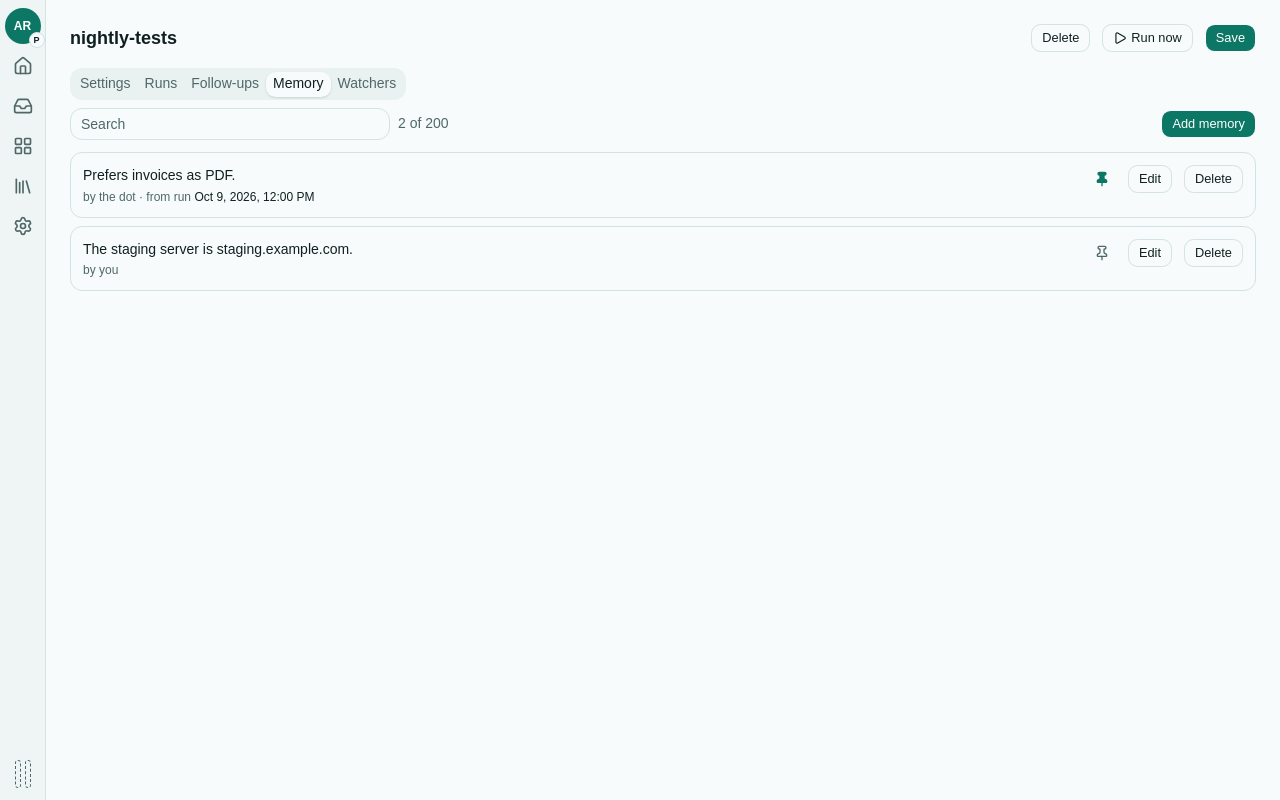
a dot's Memory tab › edits, pins and deletes a memory, and asks before it deletes
Expected: the tab "Memory" is shown, x1=266 y1=72 x2=331 y2=96
Click the button "Edit" in the row of "by you": (1150, 253) x1=1128 y1=239 x2=1172 y2=267
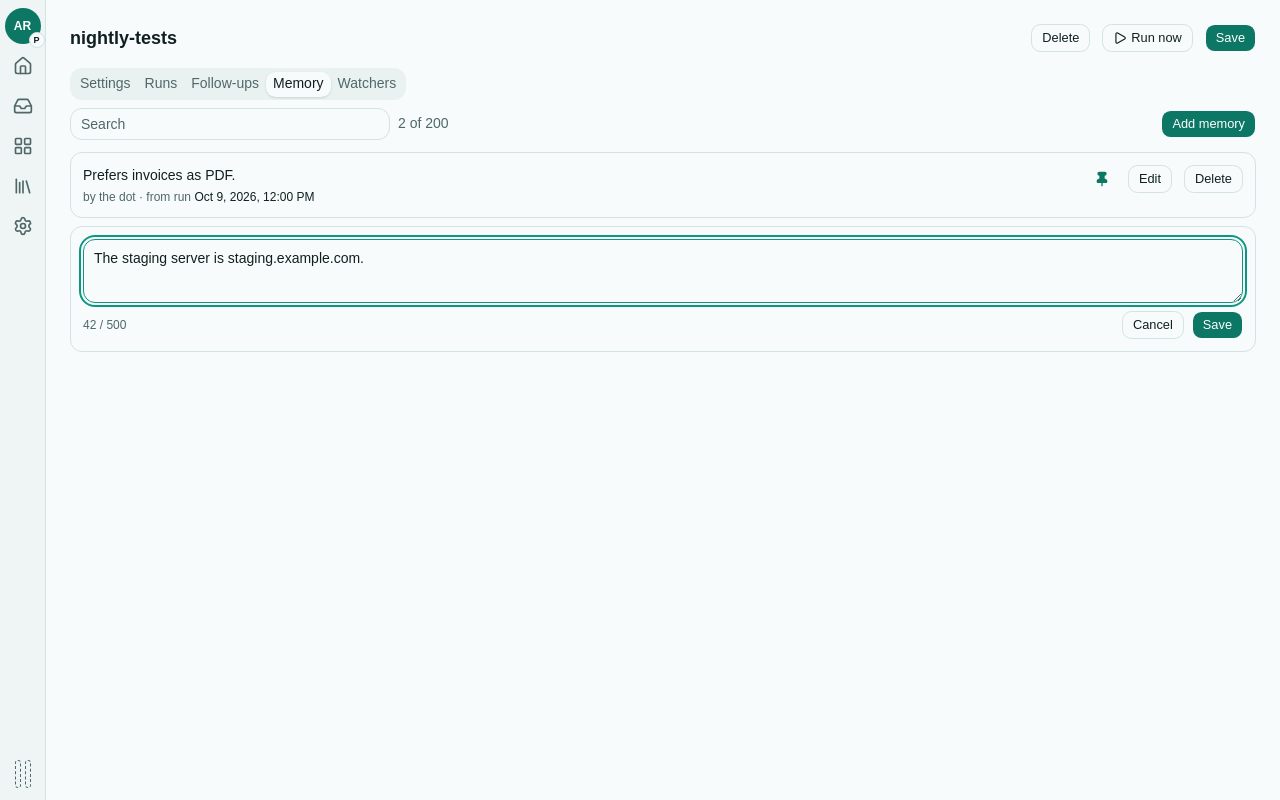
Expected: the text box named "Edit memory" holds "The staging server is staging.example.com."
Replace the text in the text box named "Edit memory" with "Staging moved to staging2.example.com.": (663, 271) x1=83 y1=239 x2=1243 y2=303
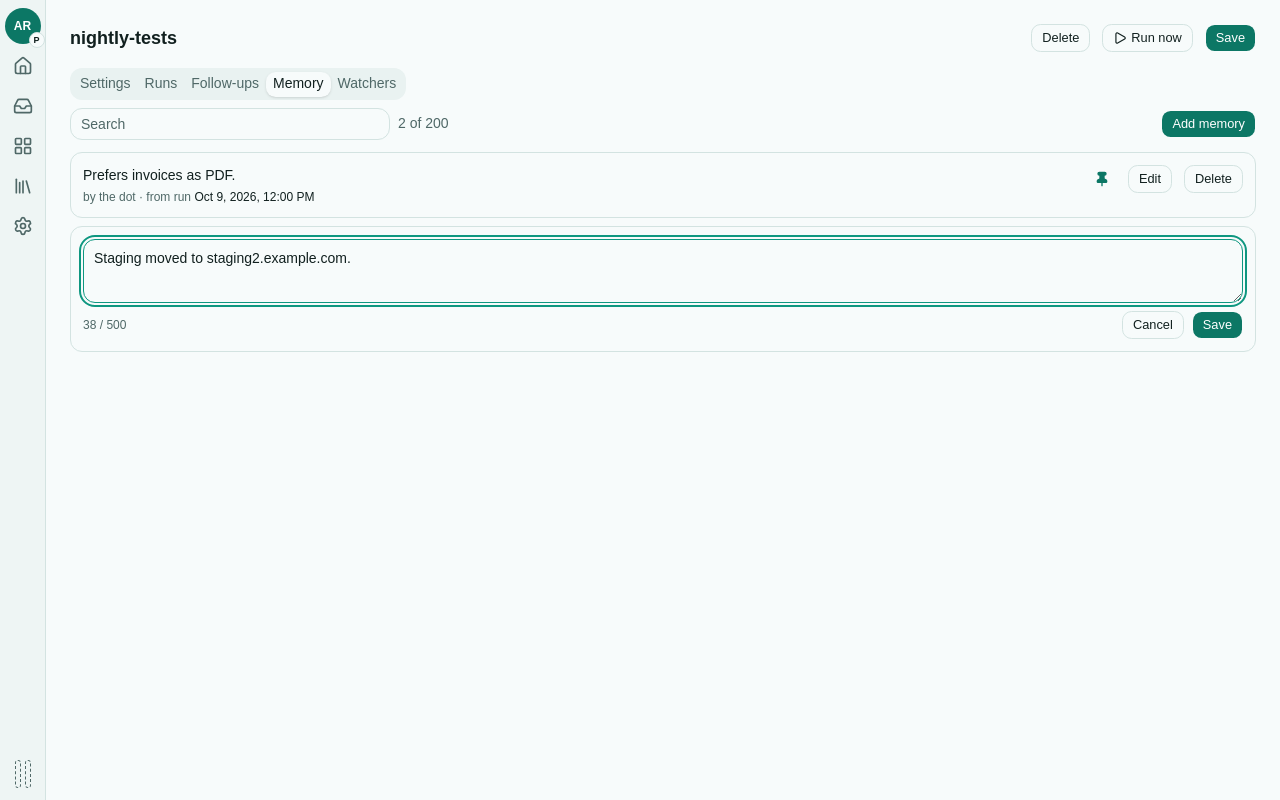
Click the button "Save" in the row of "500": (1217, 325) x1=1192 y1=311 x2=1243 y2=339
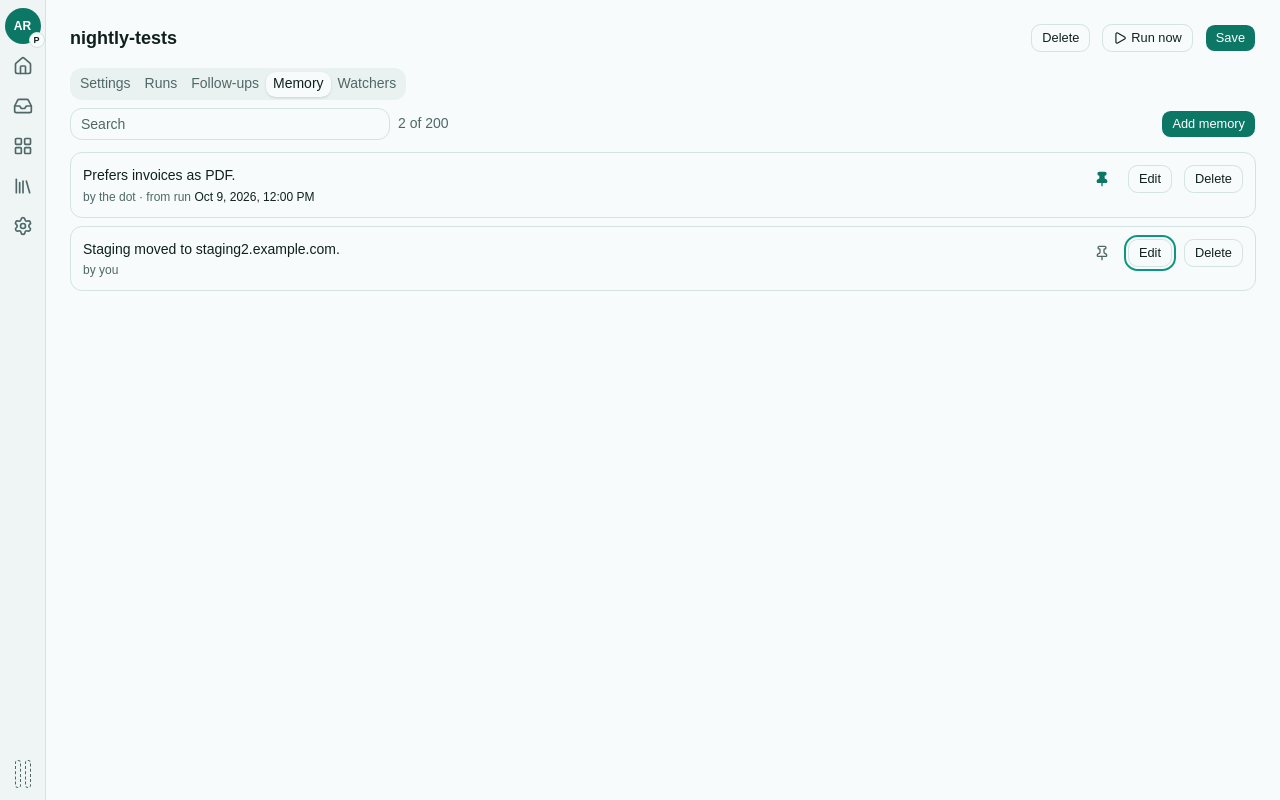
Click the button named "Pinned" in the row of "Staging moved to staging2.example.com.": (1102, 253) x1=1088 y1=239 x2=1116 y2=267
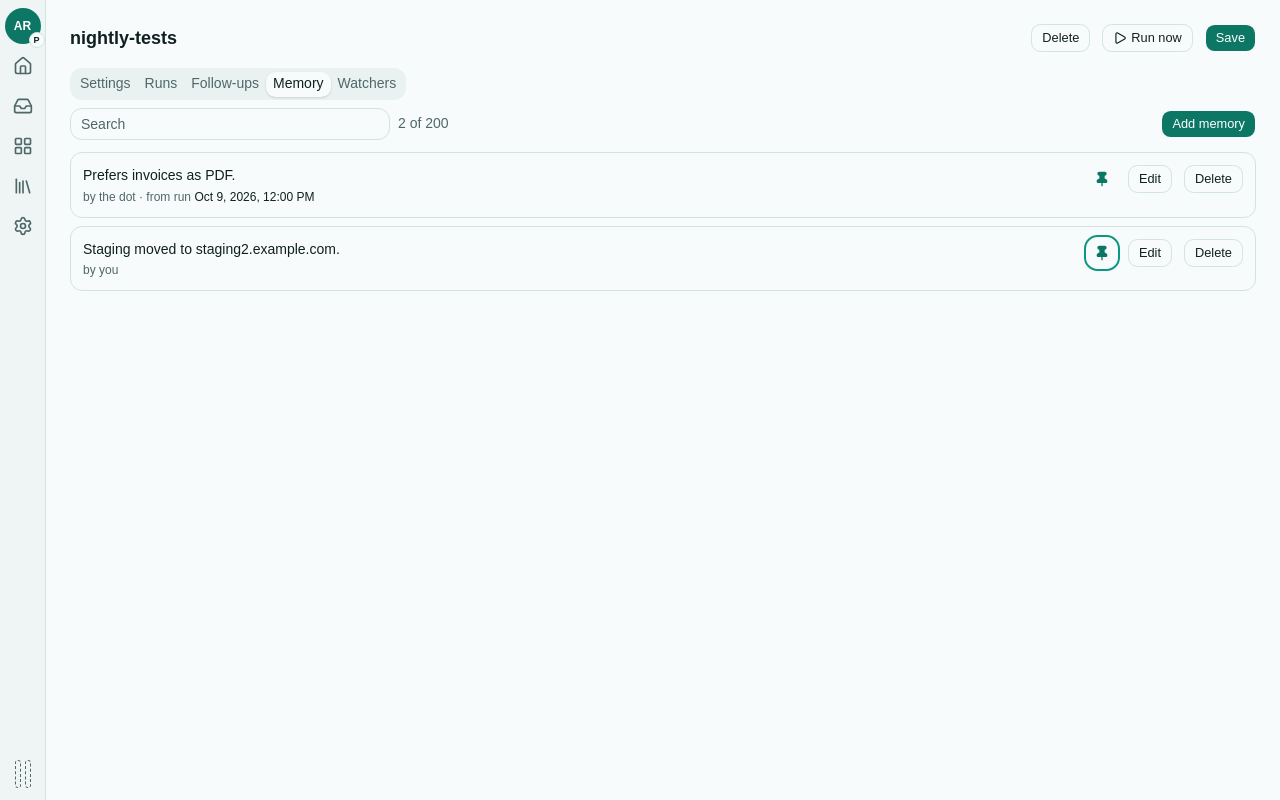
Expected: the button named "Pinned" in the row of "Staging moved to staging2.example.com." is pressed, x1=1088 y1=239 x2=1116 y2=267
Click the button "Delete" in the row of "Prefers invoices as PDF.": (1214, 179) x1=1184 y1=165 x2=1243 y2=193
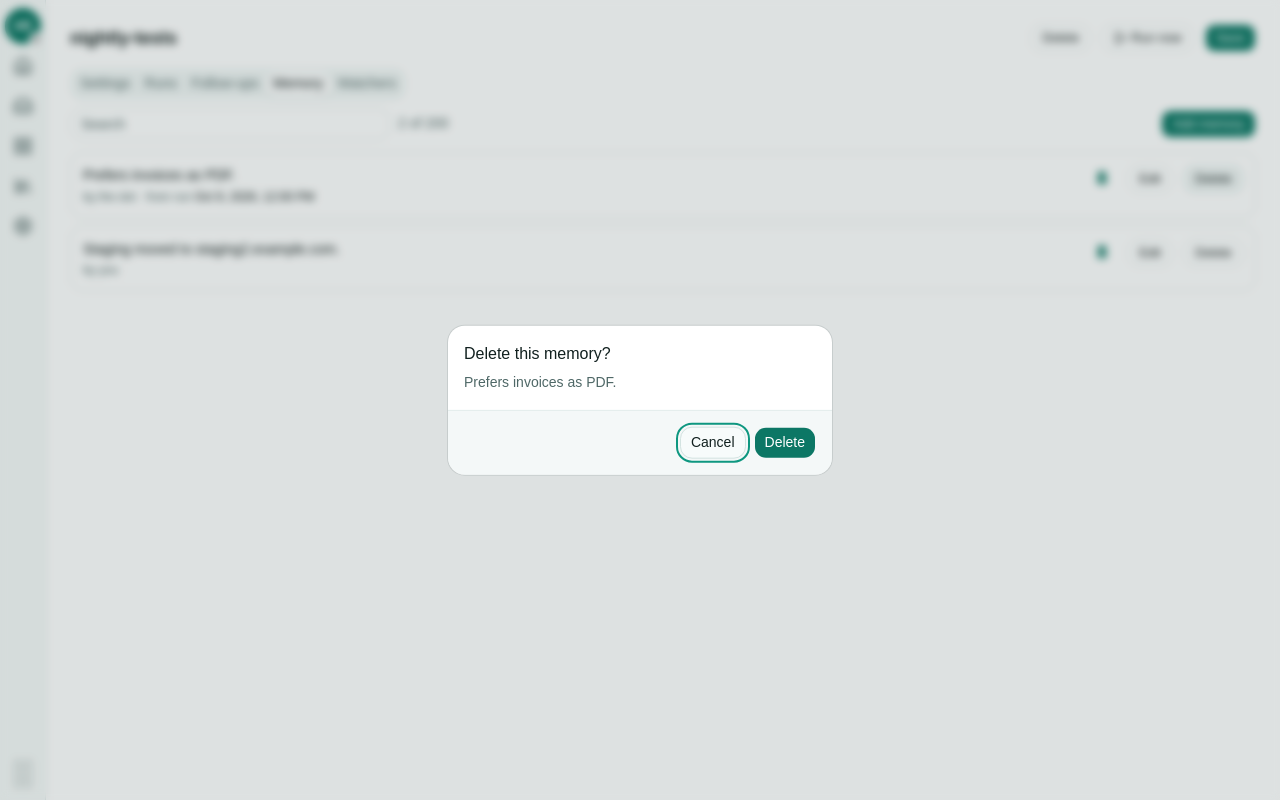
Expected: the dialog "Delete this memory?" shows "Prefers invoices as PDF.", x1=464 y1=374 x2=616 y2=390
Click the button "Delete": (785, 442) x1=754 y1=426 x2=816 y2=458
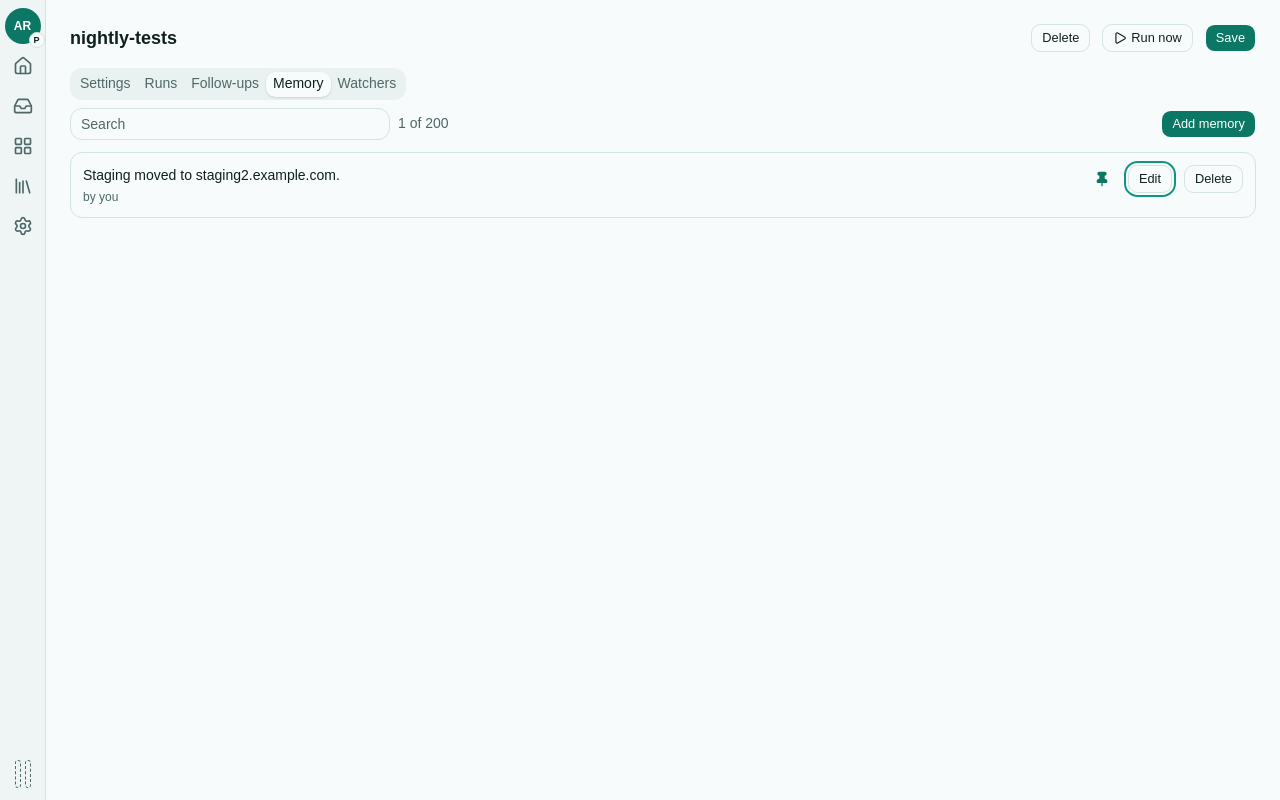
Expected: the text "Prefers invoices as PDF." is gone
